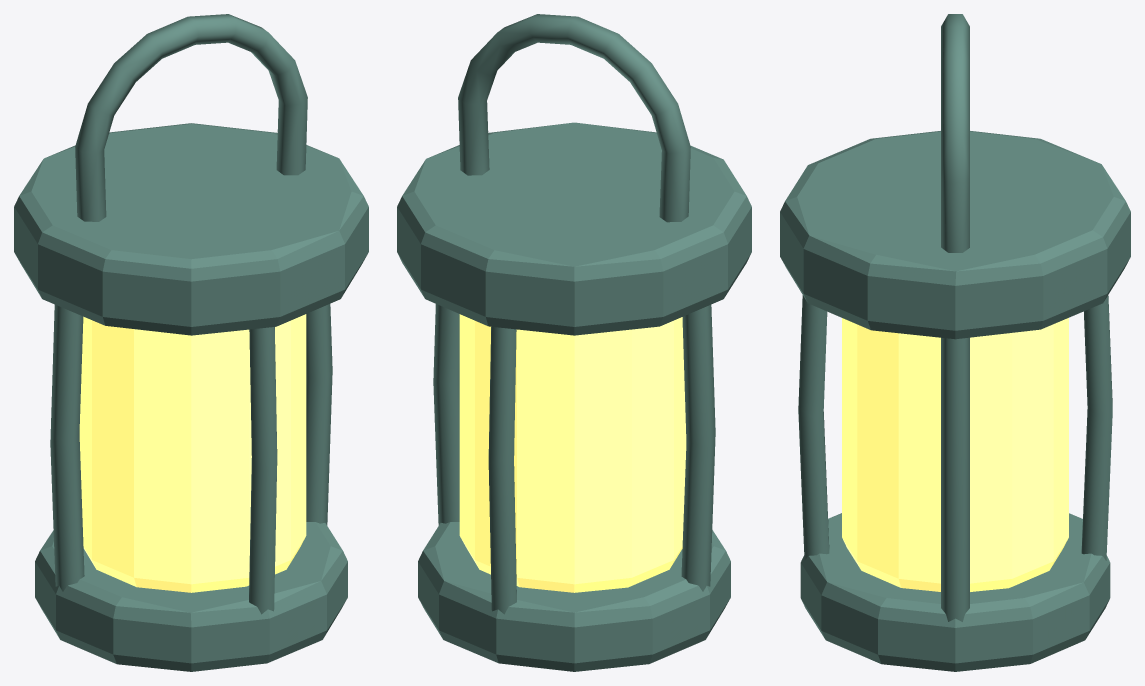
Rendered from lantern.glb.
The picture shows the model from 3 angles, left to right: view 1: azimuth 30°, elevation 25°; view 2: azimuth 150°, elevation 25°; view 3: azimuth 270°, elevation 25°; orthographic projection.
Visible parts, largest first — view 1: lantern; view 2: lantern; view 3: lantern.
Boxes of the visible parts, <box> form: lantern: <box>14,14,368,671</box>; lantern: <box>397,14,751,671</box>; lantern: <box>780,14,1130,671</box>.
Bounding box in the file's own units: 0.17 × 0.3136 × 0.17.
